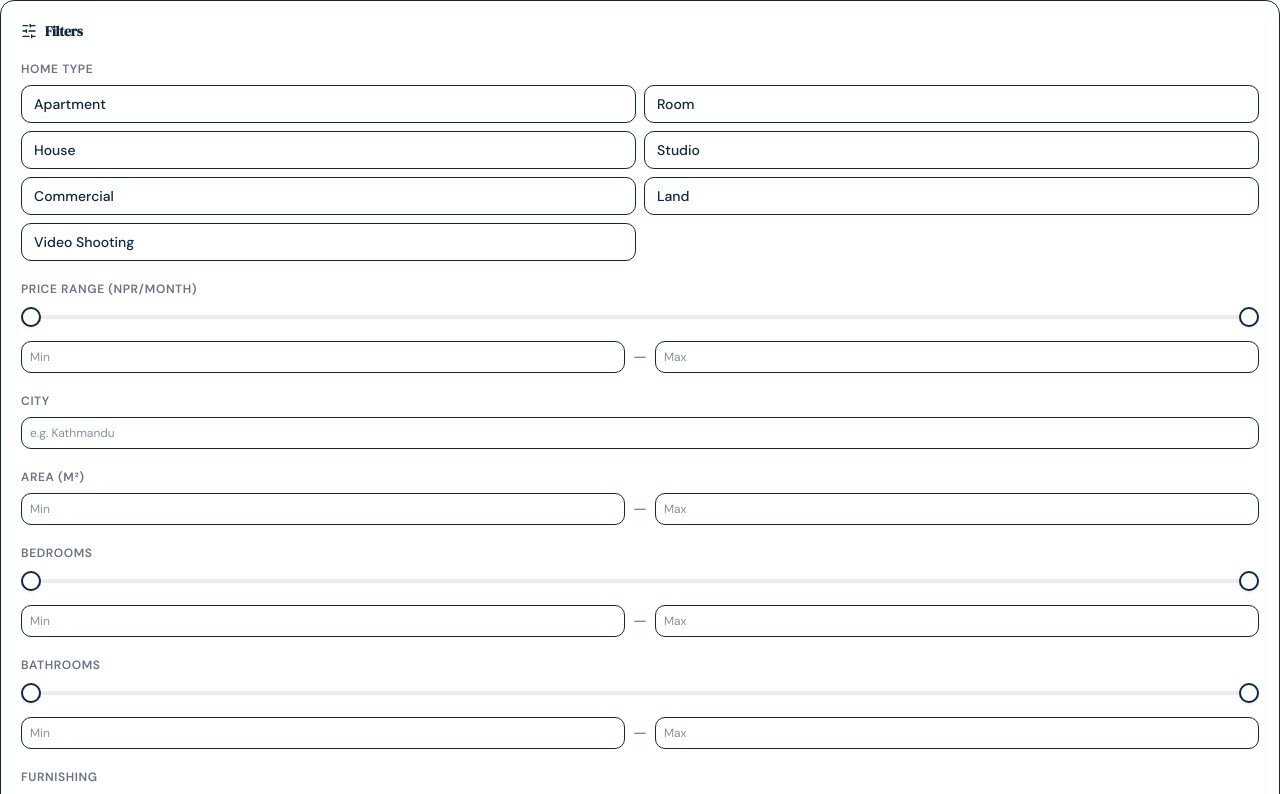
Test: FilterPanel › adjusting bathroom range shows reset affordance
Type "2" into the number field named "minimum bathrooms" at (323, 733), box [21,717,625,749]
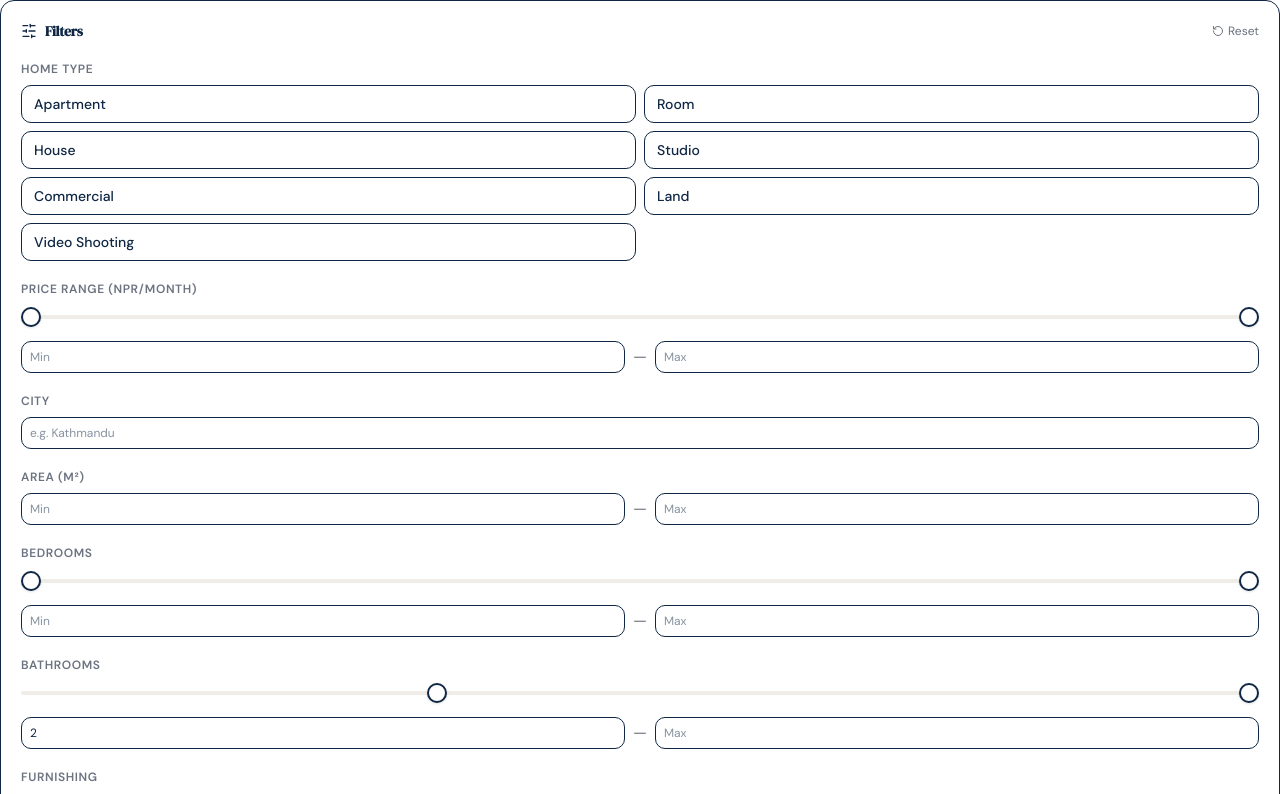
Expected: the button "Reset" is shown, [1212,23,1259,39]
